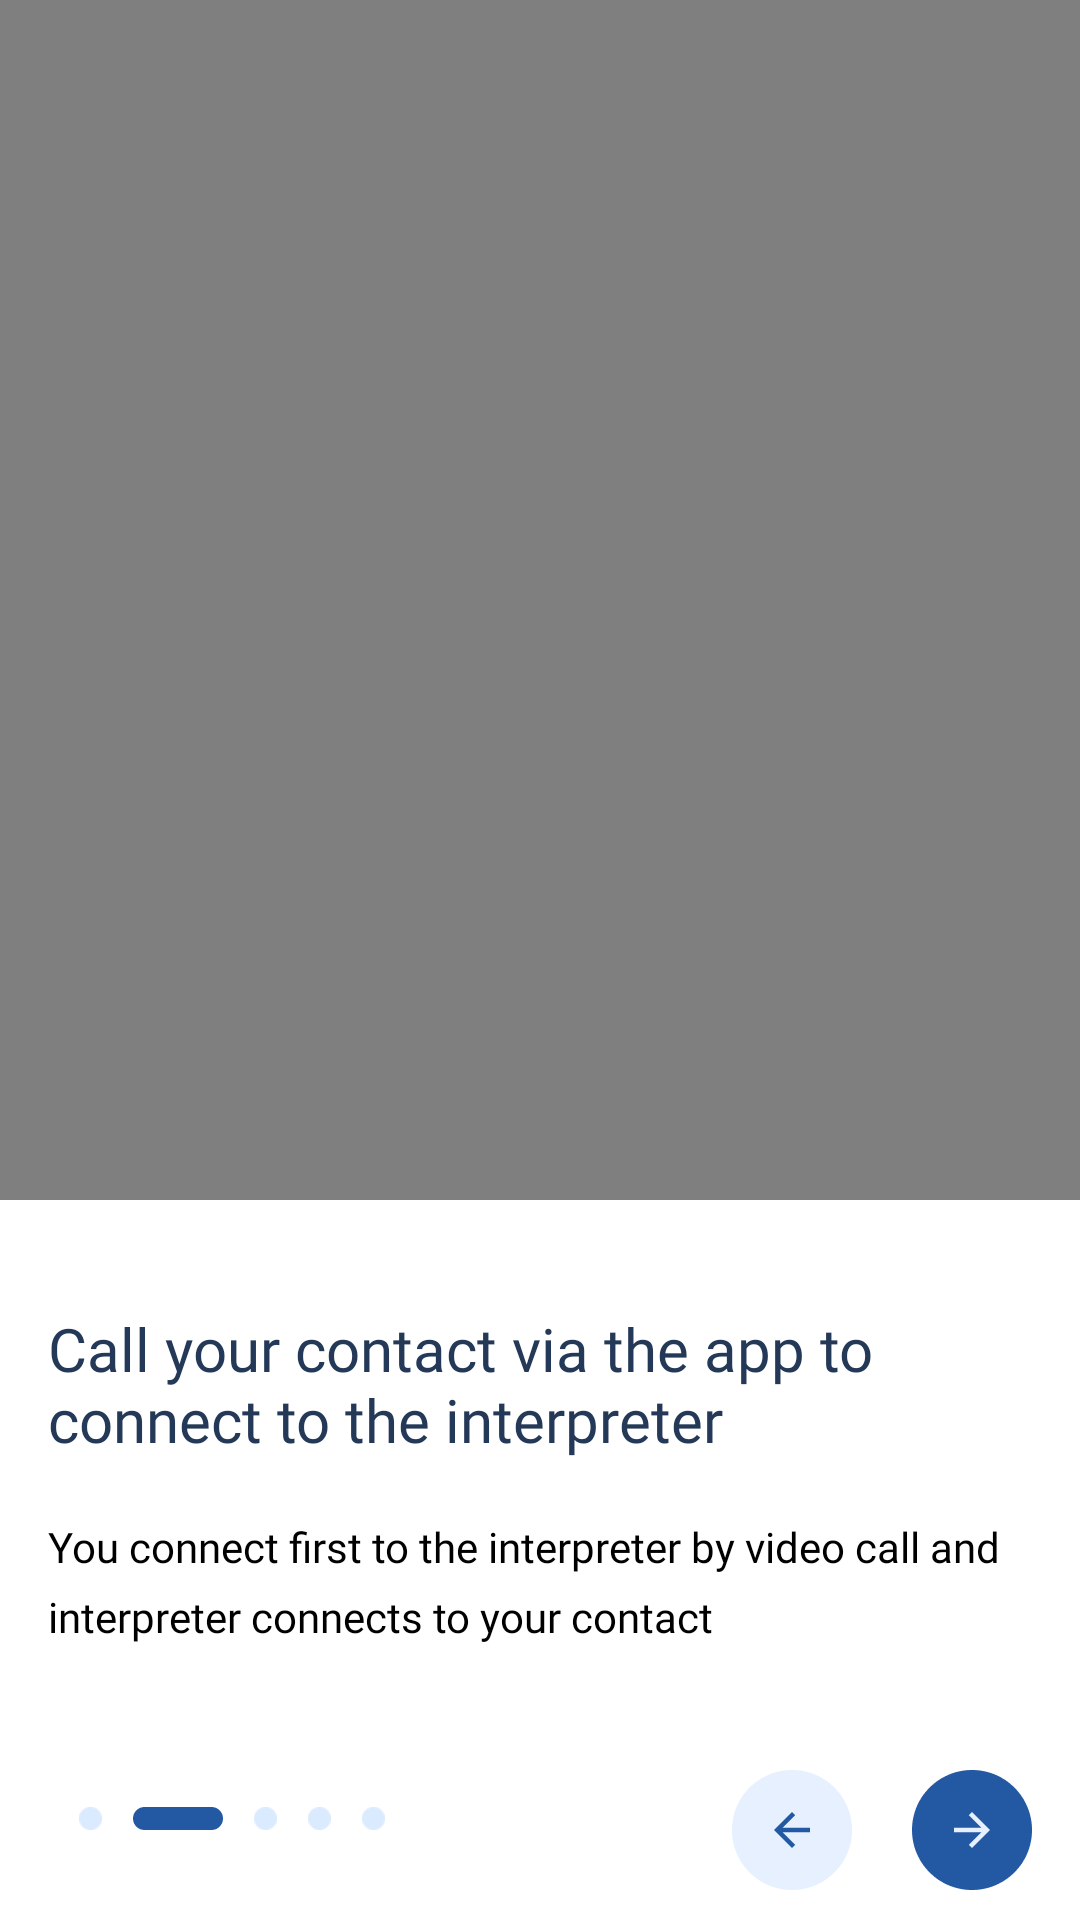

Icon click points for this 1080*1920 phone screenshot, format point (x, y):
leftarrow: point (792, 1830)
rightarrow: point (972, 1830)
